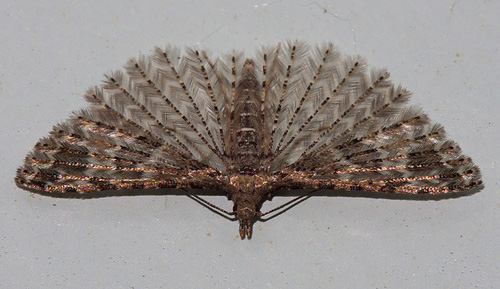Alucitidae: (15, 30, 483, 237)
moth: (17, 32, 485, 239)
